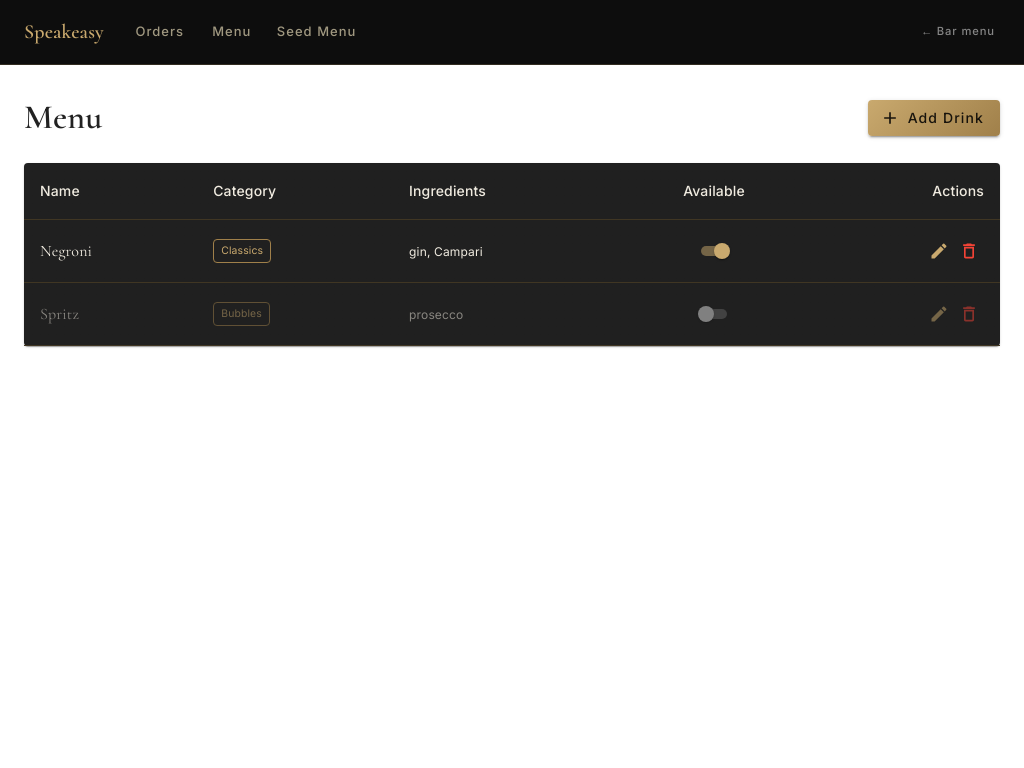
MenuAdmin › opens a confirmation naming the drink when the trash icon is clicked
The width and height of the screenshot is (1024, 768).
Click the button named "delete negroni" at (969, 251), box [954,236,984,266]
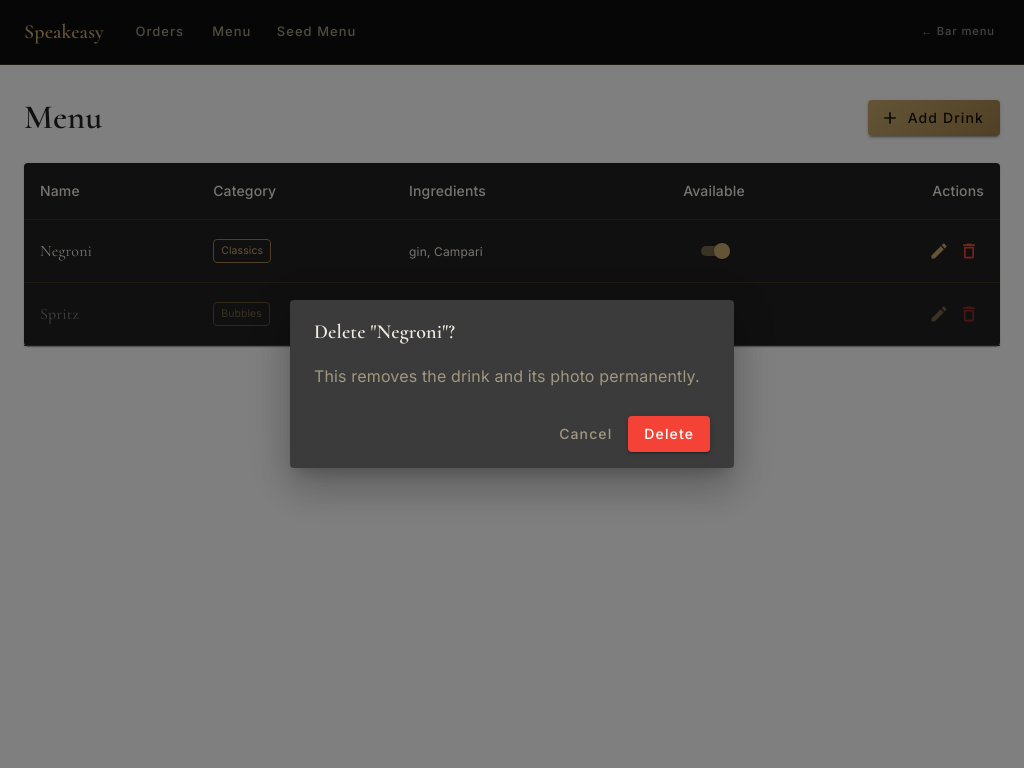
Check: the heading "Delete \"Negroni\"?" is shown, box [314,320,455,344]
